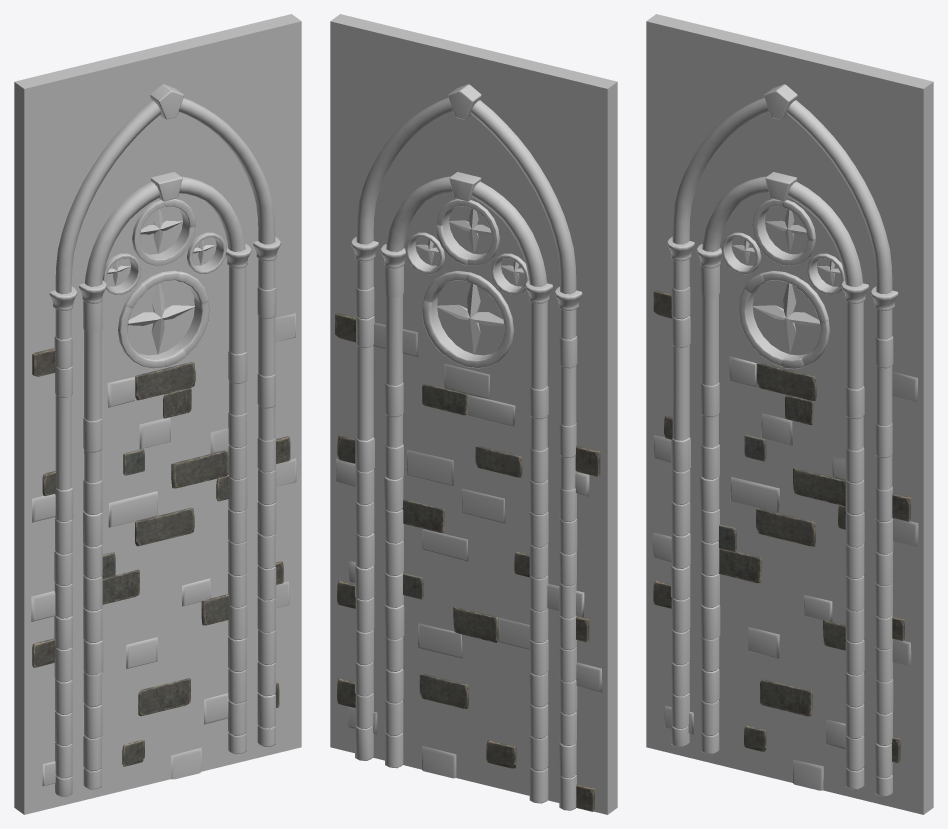
The picture shows the model from 3 angles, left to right: view 1: azimuth 30°, elevation 25°; view 2: azimuth 150°, elevation 25°; view 3: azimuth 330°, elevation 25°; orthographic projection.
Visible parts, largest first — view 1: SM_SaradominTemple_Window_8x20_03_v1_LOD0; view 2: SM_SaradominTemple_Window_8x20_03_v1_LOD0; view 3: SM_SaradominTemple_Window_8x20_03_v1_LOD0.
Part boxes in pixels (x1=…): SM_SaradominTemple_Window_8x20_03_v1_LOD0: x1=14, y1=14, x2=301, y2=814; SM_SaradominTemple_Window_8x20_03_v1_LOD0: x1=330, y1=14, x2=617, y2=814; SM_SaradominTemple_Window_8x20_03_v1_LOD0: x1=646, y1=14, x2=933, y2=814.
Size of the model in its own units: 8 by 20 by 1.44.
